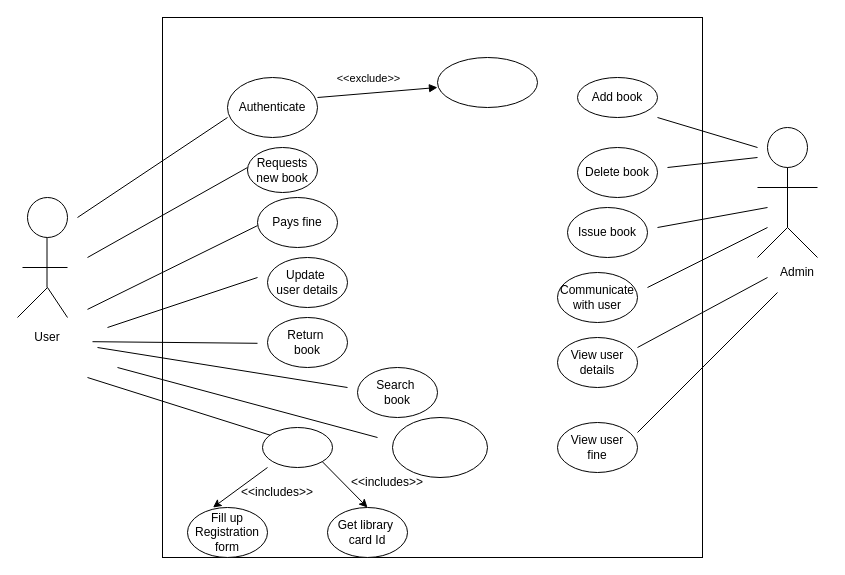
This 845x575 diagram has some shape labels left out. The box of each missing label's shape, as (x1, y1, x2, y2) in pixels:
Communicate with admin: (392, 416, 488, 478)
Invalid username or password: (436, 56, 538, 108)
Register new user: (262, 426, 332, 468)
